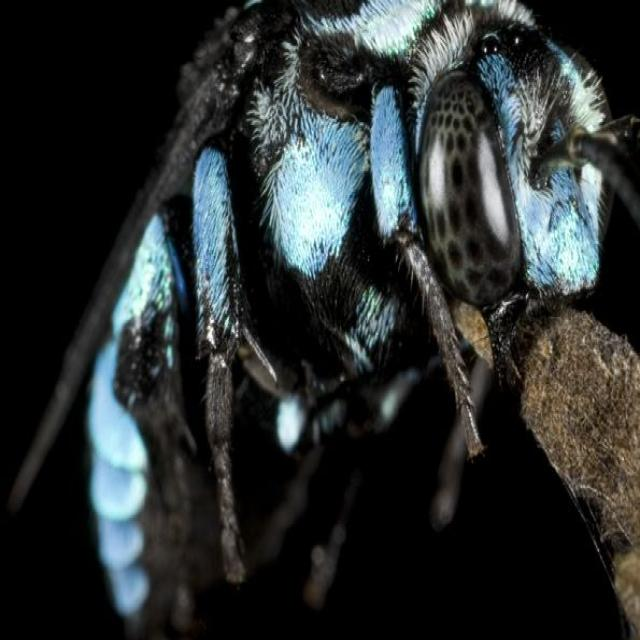Thyreus: (4, 1, 640, 640)
